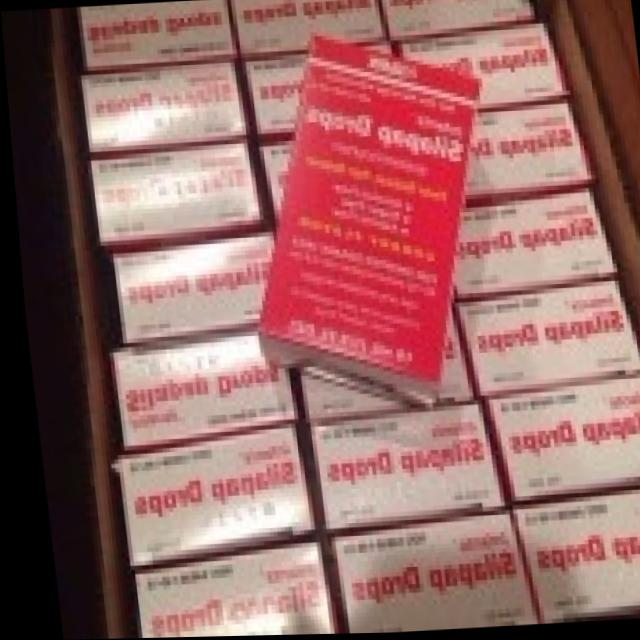box: (252, 33, 480, 413), (102, 424, 309, 566), (295, 402, 500, 534), (313, 512, 530, 635), (449, 279, 640, 398), (103, 328, 291, 446), (473, 376, 640, 507), (449, 186, 612, 304), (88, 140, 260, 250), (128, 543, 327, 638), (503, 491, 640, 626), (108, 233, 270, 343), (389, 25, 568, 115), (79, 59, 247, 152), (462, 101, 592, 205), (80, 0, 236, 71), (230, 0, 385, 58), (379, 0, 534, 42), (240, 51, 307, 139)
